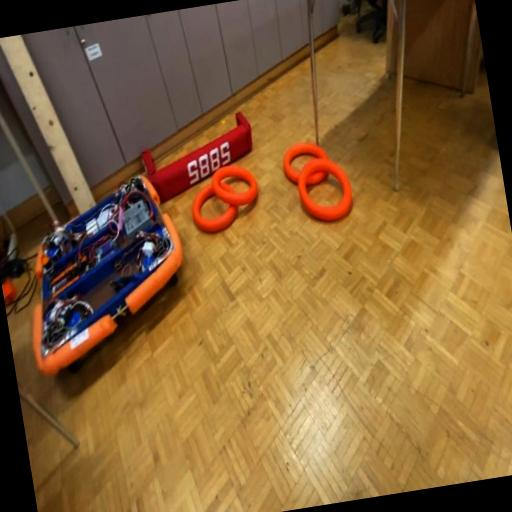robot: (5, 169, 199, 380)
